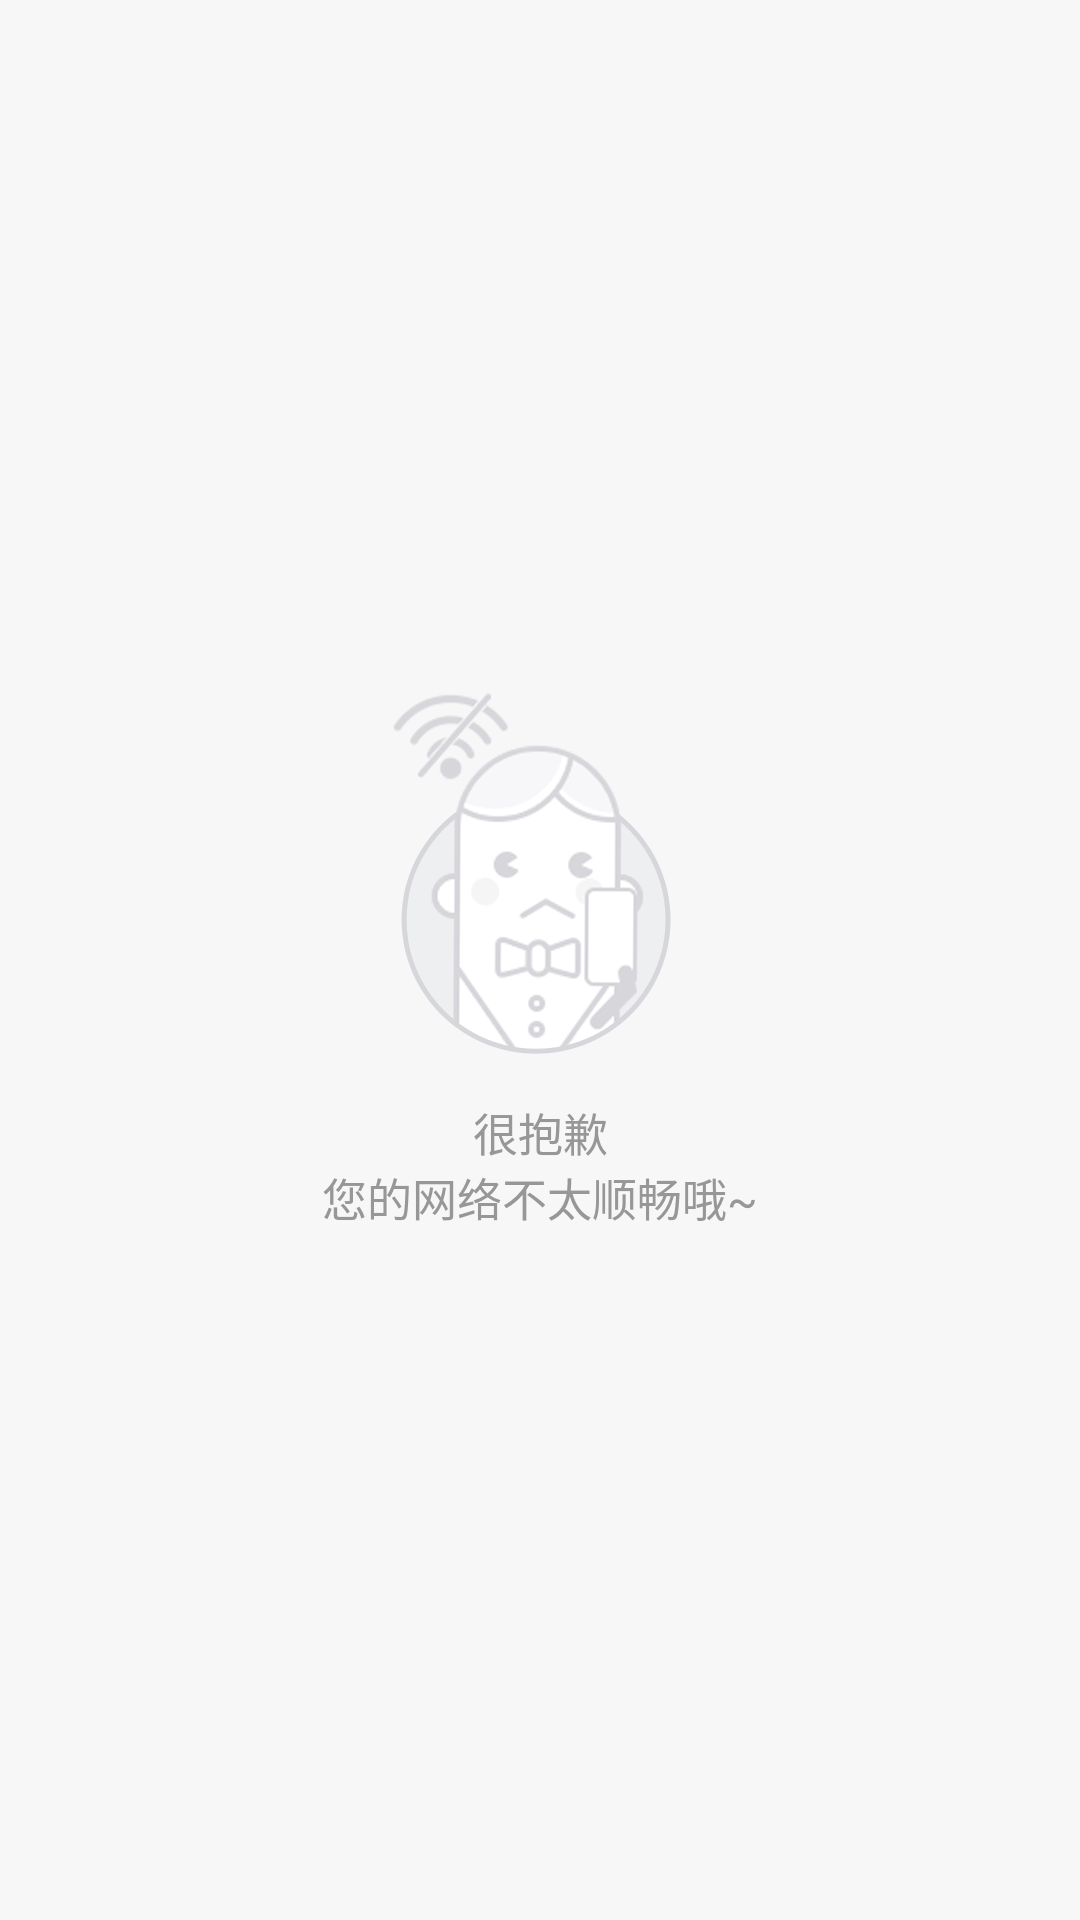

Locate icon controls on the screen. Image size 1080×1920, boxes as (x1, y1, x2, y2).
nowifi: (394, 694, 670, 1053)
